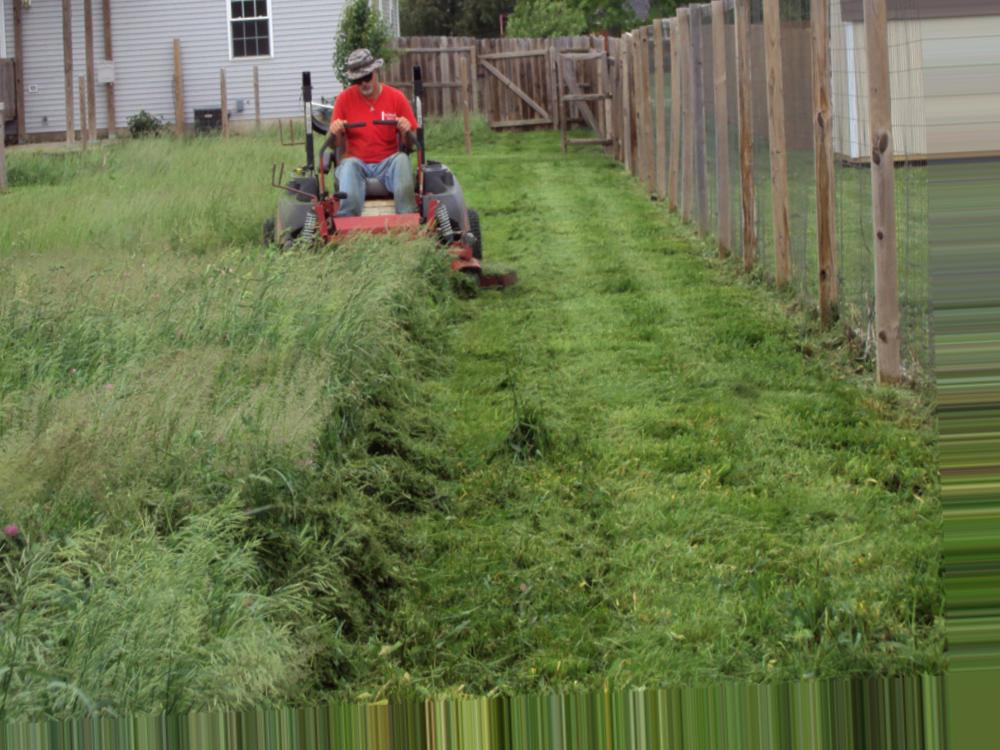patch: (153, 367, 216, 420)
